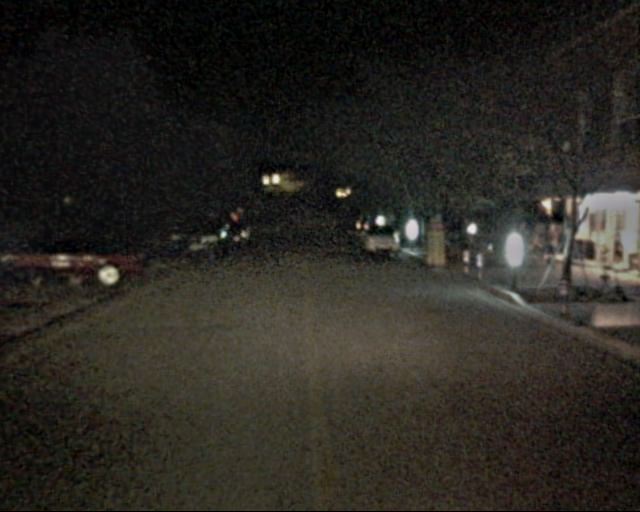person: (540, 222, 562, 275), (514, 222, 535, 272)
